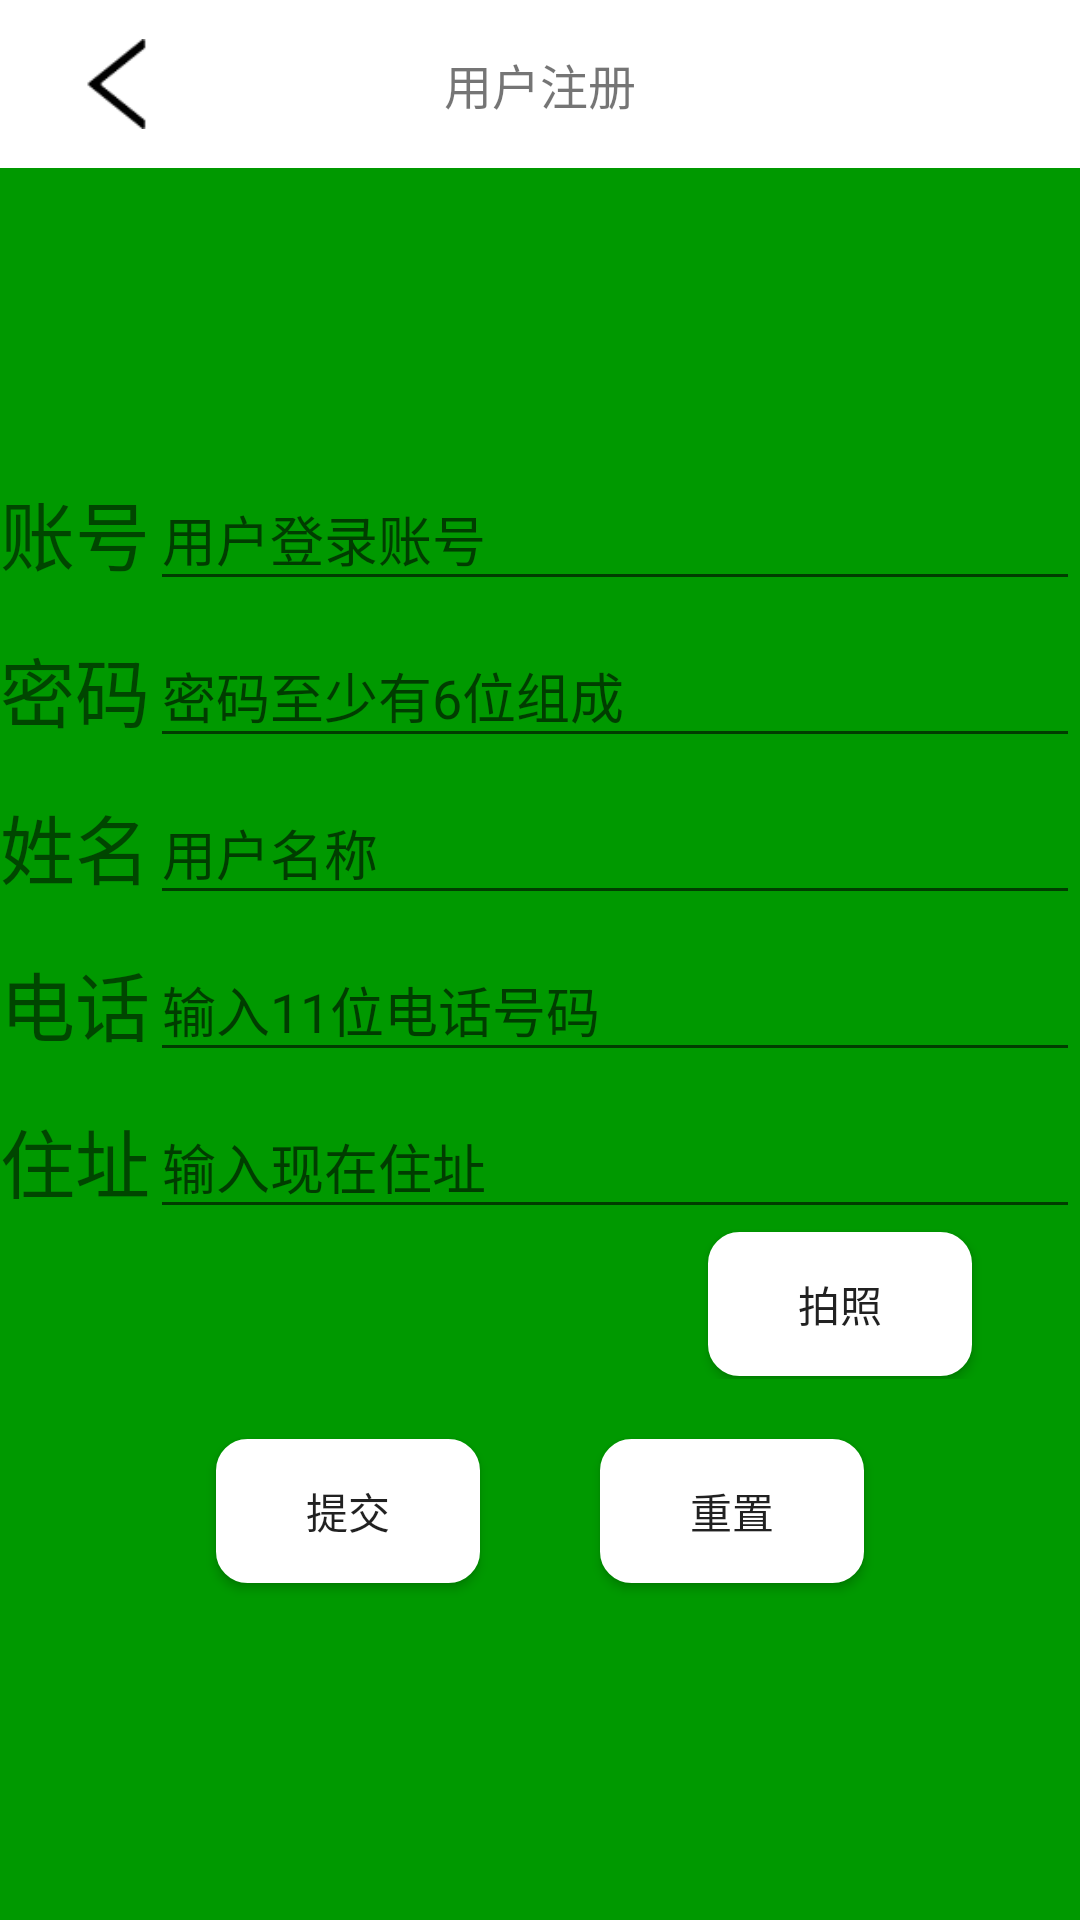

Named icons in this screenshot (1080x1920) and their bounding boxes, (x1, y1, x2, y2):
fanhui: (87, 39, 146, 129)
